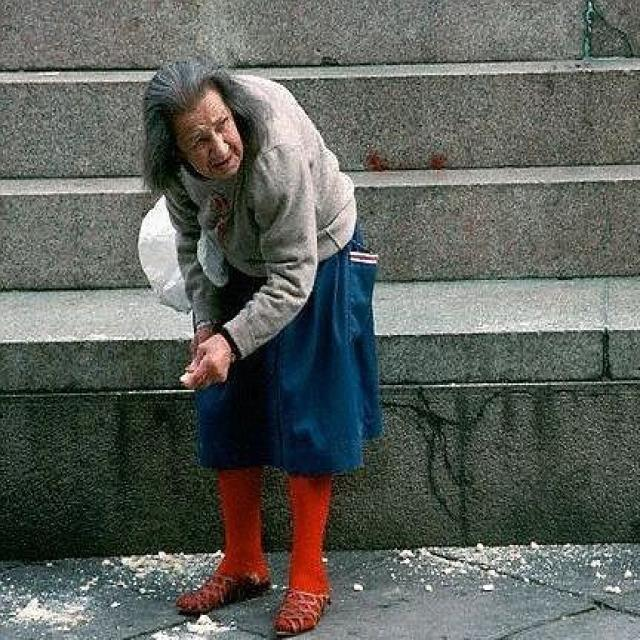idoso em pe: (113, 52, 389, 640)
